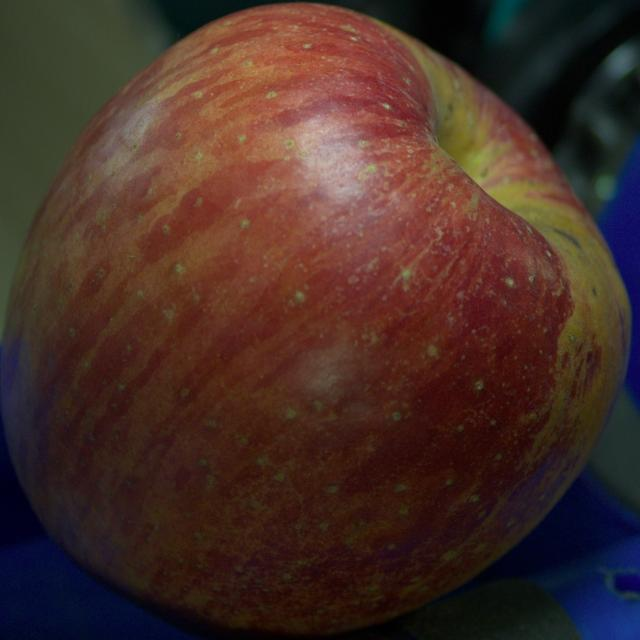apple: (0, 4, 631, 638)
